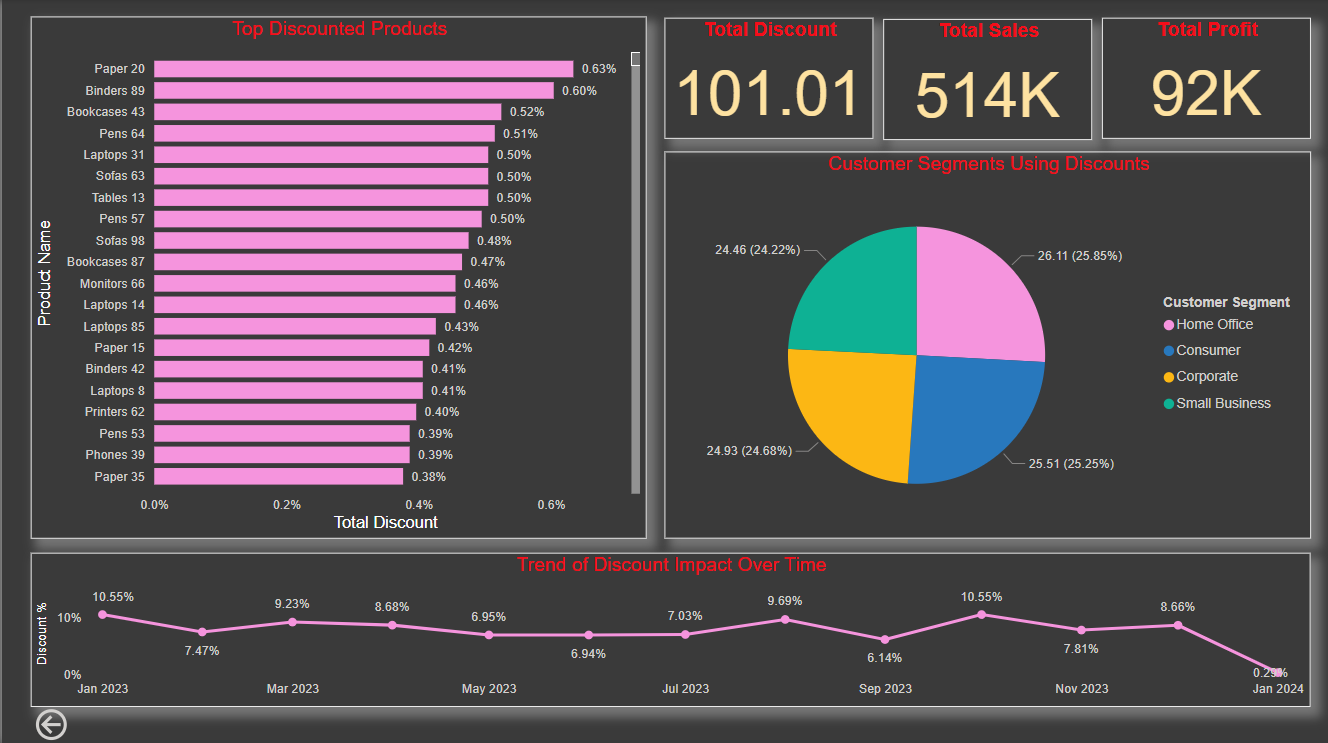

This screenshot's page, from the dashboard's own definition file:
{"tool":"powerbi","page":{"name":"Discount Analysis","canvas":[1280,720],"ordinal":1},"visuals":[{"type":"clusteredBarChart","title":"Top Discounted Products","fields":{"Category":["Sheet1.Product Name"],"Y":["Sum(Sheet1.Discount)"]},"box":[27.4,16.5,594.2,503.6],"z":0},{"type":"pieChart","title":" Customer Segments Using Discounts","fields":{"Category":["Sheet1.Customer Segment"],"Y":["Sum(Sheet1.Discount)"]},"box":[639.5,146.8,624.4,373.2],"z":1},{"type":"lineChart","title":"Trend of Discount Impact Over Time","fields":{"Category":["Sheet1.Order Date.Variation.Date Hierarchy.Year","Sheet1.Order Date.Variation.Date Hierarchy.Month","Sheet1.Order Date.Variation.Date Hierarchy.Day"],"Y":["Sum(Sheet1.Discount)"]},"box":[28.1,534.4,1235.1,149.2],"z":2},{"type":"card","title":"Total Discount","fields":{"Values":["Sum(Sheet1.Discount)"]},"box":[639.5,17.8,201.7,116.6],"z":3},{"type":"actionButton","box":[27.4,680.6,100.2,39.8],"z":4},{"type":"card","title":"Total Sales","fields":{"Values":["Sum(Sheet1.Sales Amount)"]},"box":[850.8,19.2,201.7,116.6],"z":5},{"type":"card","title":"Total Profit","fields":{"Values":["Sum(Sheet1.Profit)"]},"box":[1062.1,17.8,201.7,116.6],"z":6}]}

Visuals, with their boxes in screenshot pixels (x1, y1, x2, y2), scaled from the page's 1280x720 canvas onto the 1328x743 screenshot:
"Top Discounted Products" clusteredBarChart: (28, 17, 645, 537)
" Customer Segments Using Discounts" pieChart: (663, 151, 1311, 537)
"Trend of Discount Impact Over Time" lineChart: (29, 551, 1311, 705)
"Total Discount" card: (663, 18, 873, 139)
actionButton: (28, 702, 132, 742)
"Total Sales" card: (883, 20, 1092, 140)
"Total Profit" card: (1102, 18, 1311, 139)
